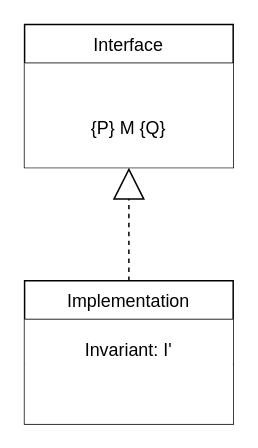
Image size: 258x448. Some labels were removed from this diagram. Each missing label, with the centre of its shape:
"Invariant: I" belongs at pixel 128 85.
"{P'} M {Q'}" belongs at pixel 128 393.
